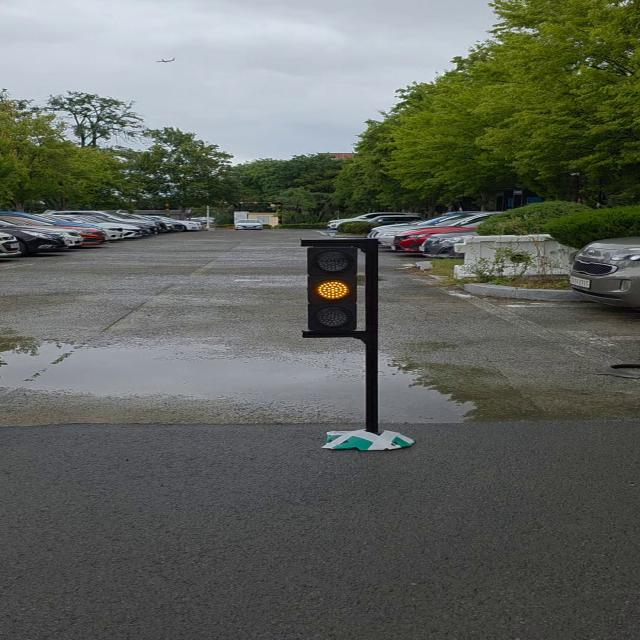yellow: (305, 238, 362, 336)
